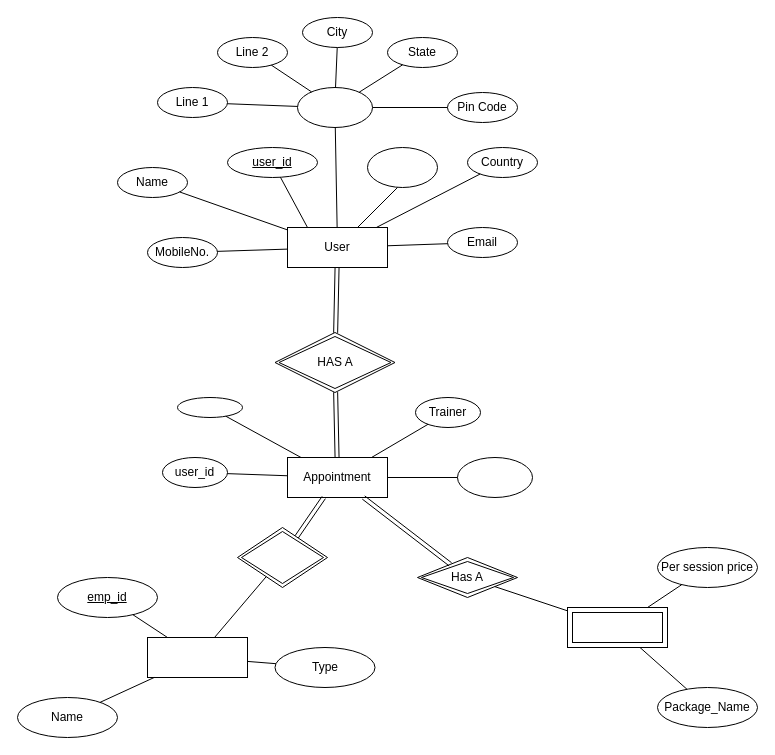
The diagram is 775 pixels wide and 755 high, and some of its shapes have lost their labels. The shapes that lost their labels are listed below. From the top down, each one's box as (x1, y1, x2, y2) in pixels, then its label:
(296, 86, 372, 128): Address
(366, 146, 438, 188): Age
(176, 396, 242, 418): ID
(456, 456, 532, 498): Physio required
(236, 526, 328, 588): Assigned To
(566, 606, 668, 648): Package
(146, 636, 248, 678): Employee
